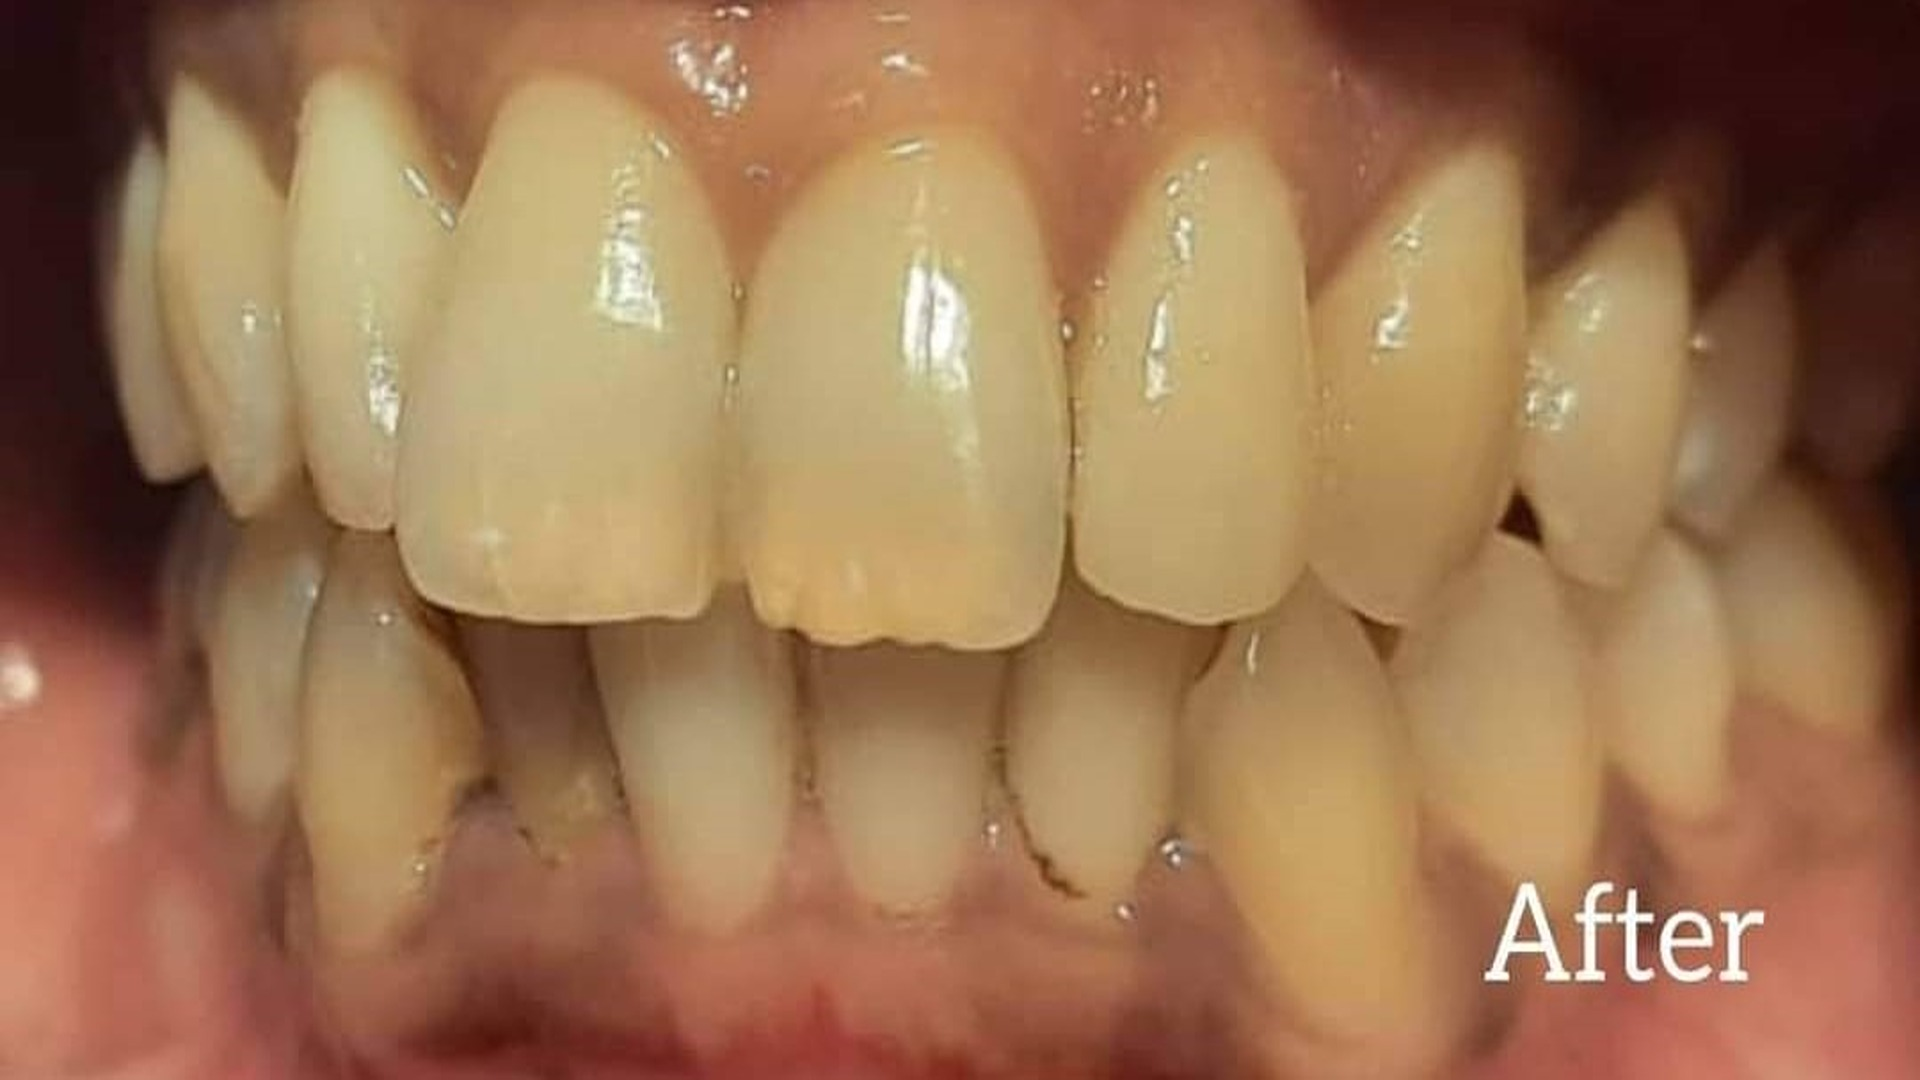tooth: (392, 71, 738, 625), (730, 124, 1071, 651), (1072, 134, 1316, 625), (1175, 585, 1421, 1035), (1307, 134, 1526, 628), (1003, 517, 1226, 915), (1354, 532, 1596, 878), (295, 527, 492, 951), (587, 581, 811, 935), (284, 66, 454, 530), (1517, 183, 1696, 590), (157, 72, 302, 521), (796, 635, 994, 910), (212, 465, 337, 830), (454, 614, 629, 861)
